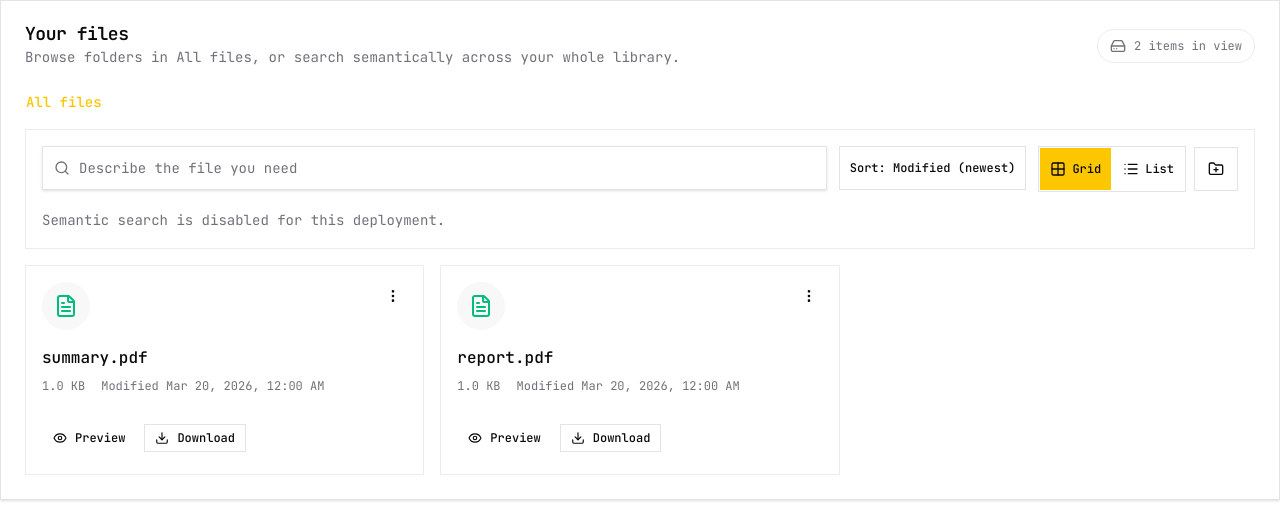
Test: FilesLibrary › shows the bulk actions bar when files are selected by checkbox and ctrl+click
The width and height of the screenshot is (1280, 518).
Click the button "List": (1149, 169) [1112,147,1185,191]
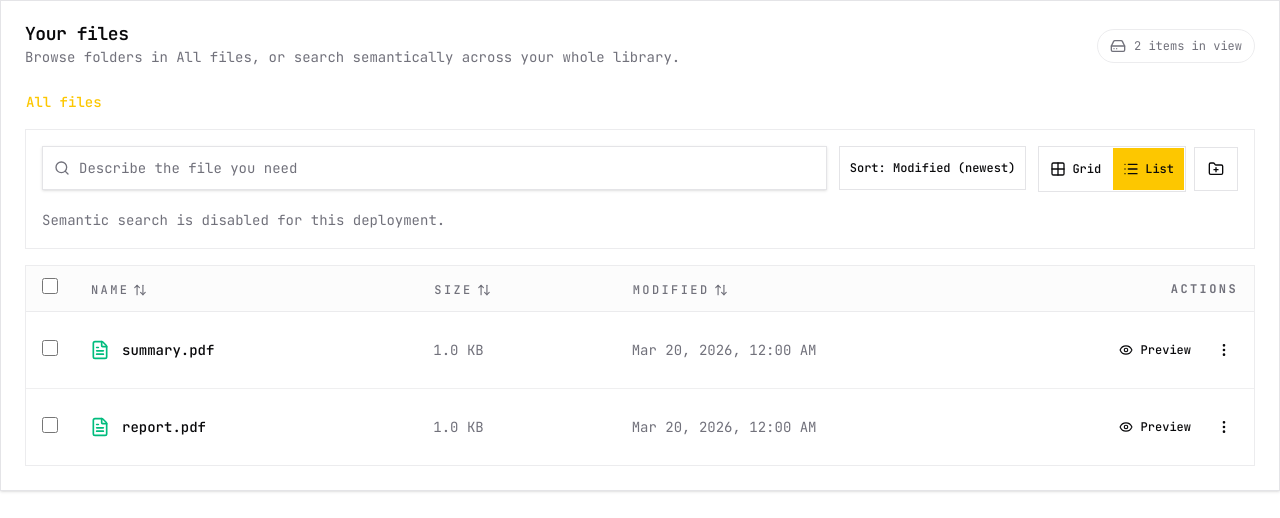
Click the checkbox named "Select report.pdf": (50, 424) [42,416,58,432]
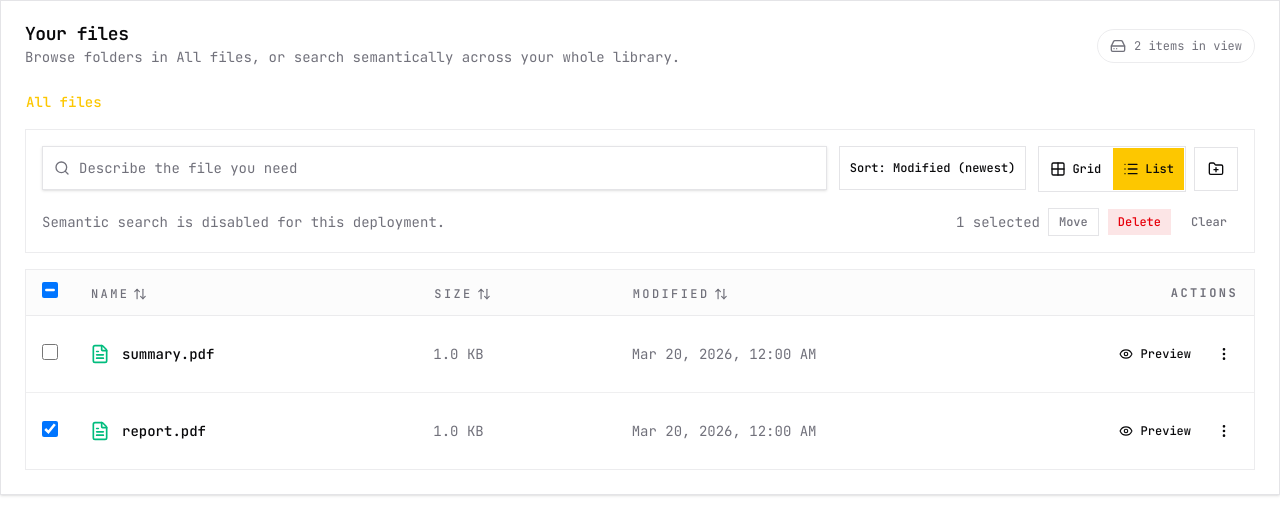
Expected: the text "summary.pdf" is shown, [122,344,214,364]
Click the text "summary.pdf": (640, 354) [26,316,1254,392]
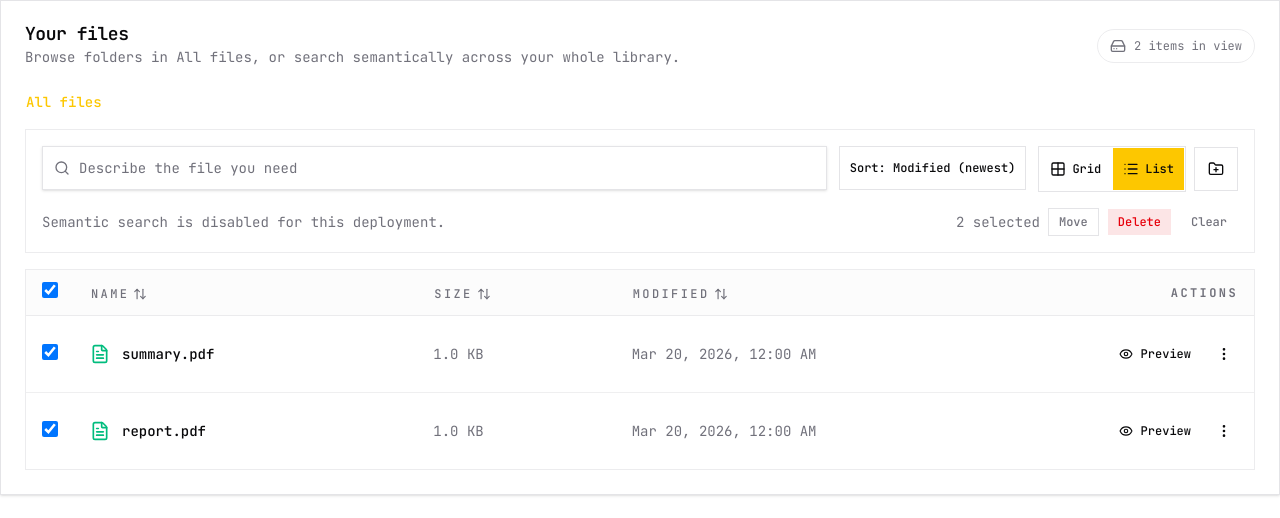
Expected: the text "2 selected" is shown, [956,212,1040,232]
Click the button "Clear": (1209, 222) [1180,208,1238,236]
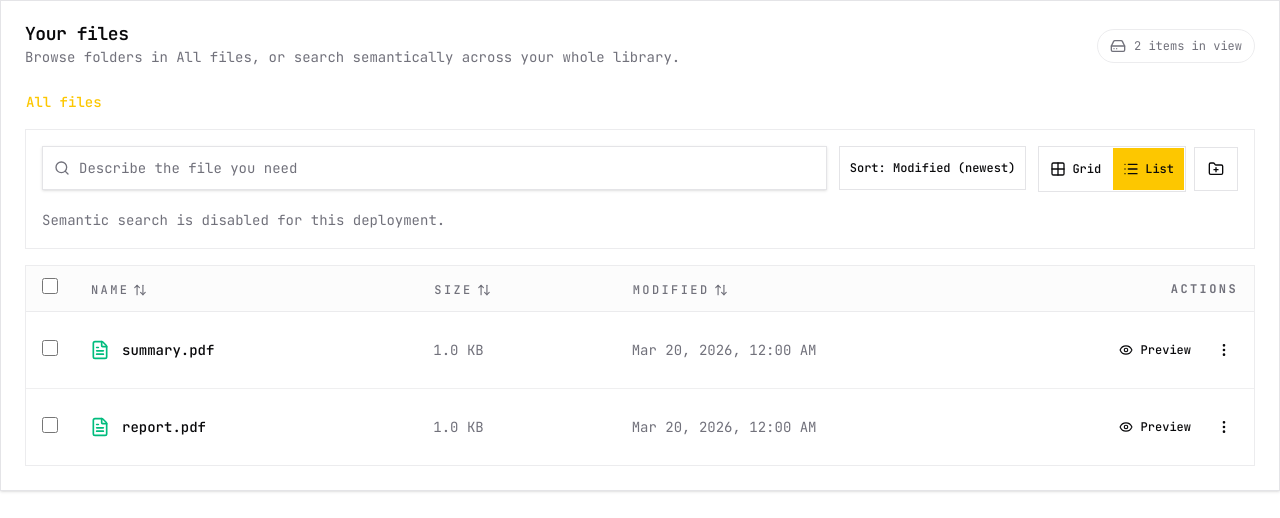
Expected: the text "2 selected" is gone
